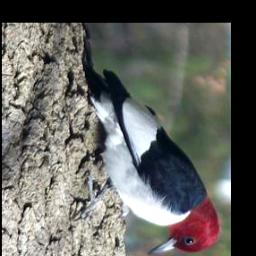Woodpecker: (67, 64, 222, 256)
